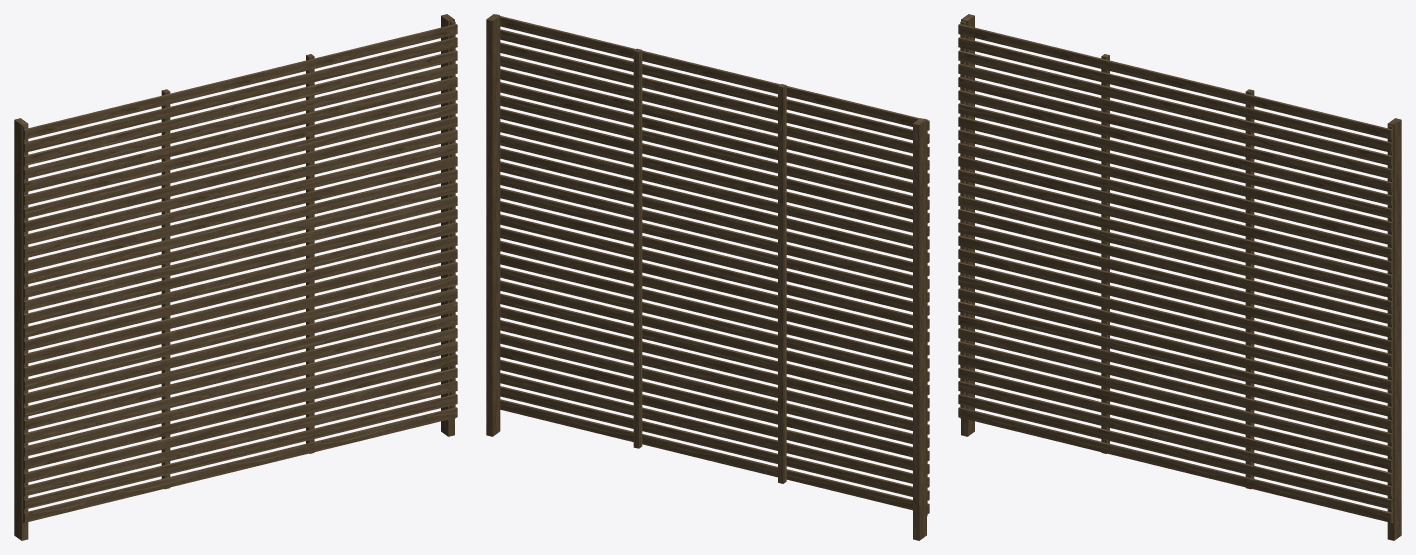
Rendered from EAdesignunitborder_h1835-w1999_brownebony.fbx.
3 views of the same model, side by side, from view 1: azimuth 30°, elevation 25°; view 2: azimuth 150°, elevation 25°; view 3: azimuth 330°, elevation 25° (orthographic).
Parts seen in each view (by area): view 1: EAdesignunitborder_h1835-w1999_brownebony; view 2: EAdesignunitborder_h1835-w1999_brownebony; view 3: EAdesignunitborder_h1835-w1999_brownebony.
Part boxes in pixels (box(x1,y1,x2,y2)): EAdesignunitborder_h1835-w1999_brownebony: box(14, 14, 457, 540); EAdesignunitborder_h1835-w1999_brownebony: box(486, 14, 929, 540); EAdesignunitborder_h1835-w1999_brownebony: box(958, 14, 1401, 540).
Size of the model in its own units: 200 by 183 by 8.4.
Materials: 1 (1 with a texture image).
